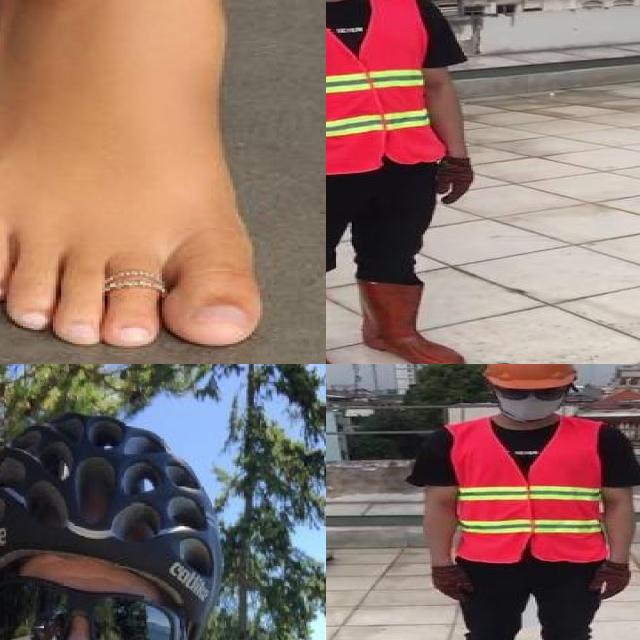Barefoots: (0, 0, 267, 348)
boots: (352, 276, 466, 364)
face_mask: (494, 382, 564, 419)
face_nomask: (0, 572, 162, 640)
glasses: (0, 573, 187, 640), (496, 383, 569, 404)
hand_glove: (437, 158, 473, 207), (430, 564, 473, 603), (592, 564, 631, 598)
head_helmet: (0, 413, 239, 607), (481, 364, 583, 393)
person: (326, 0, 496, 364), (422, 364, 640, 640), (0, 416, 246, 640)
vest: (450, 417, 608, 562), (326, 0, 442, 173)
